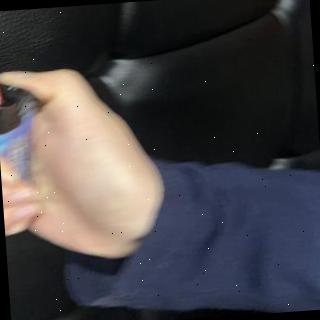fire: (0, 62, 6, 109)
